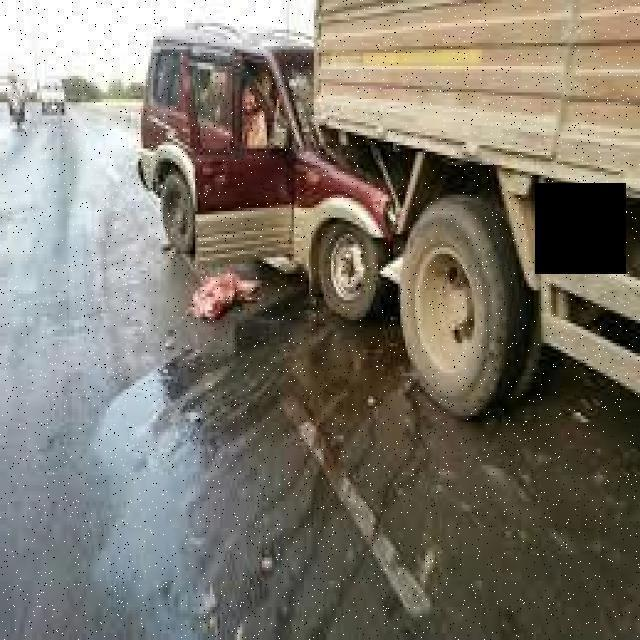accident: (130, 3, 638, 429)
